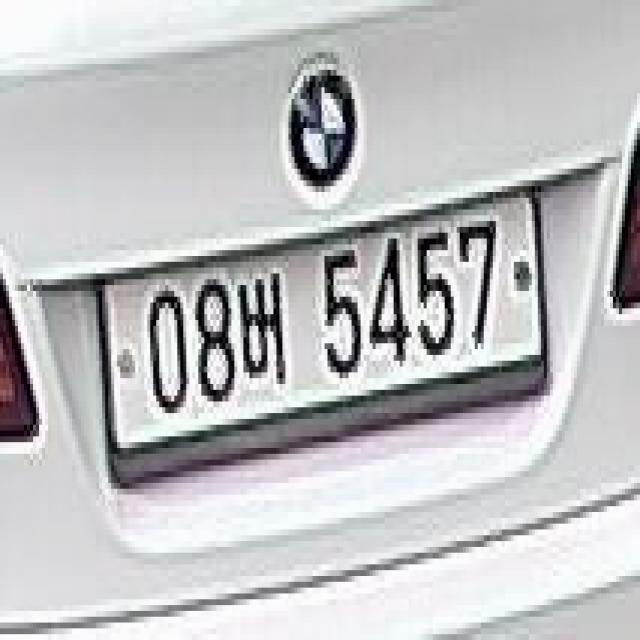illegal_plate: (95, 170, 550, 491)
